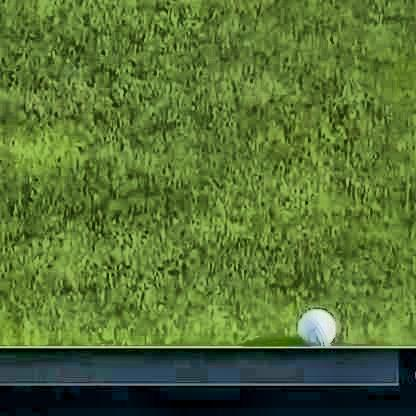golfball: (293, 309, 335, 345)
